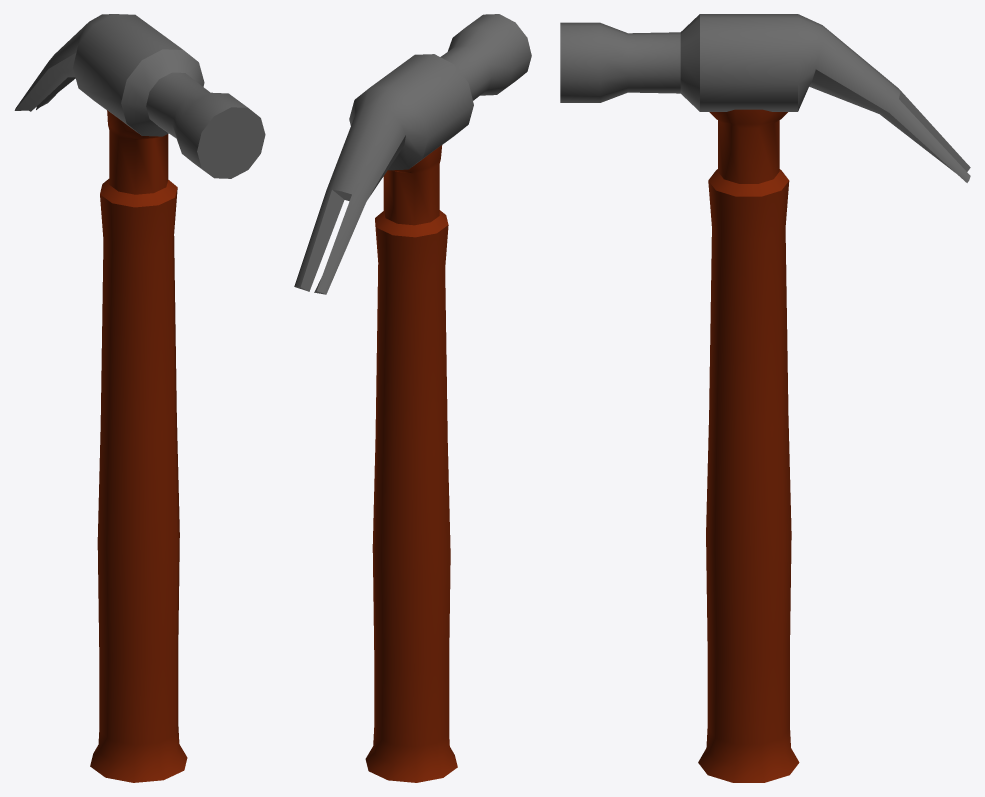
The model's file is hammer.glb.
The picture shows the model from 3 angles, left to right: view 1: azimuth 30°, elevation 25°; view 2: azimuth 150°, elevation 25°; view 3: azimuth 270°, elevation 25°; orthographic projection. The views are drawn at different scales.
Visible parts, largest first — view 1: Cylinder; view 2: Cylinder; view 3: Cylinder.
Part boxes in pixels (x1,y1,x2,y2): Cylinder: [14, 14, 265, 782]; Cylinder: [294, 14, 531, 782]; Cylinder: [560, 14, 970, 782].
Bounding box in the file's own units: 0.4267 × 3.57 × 1.78.
